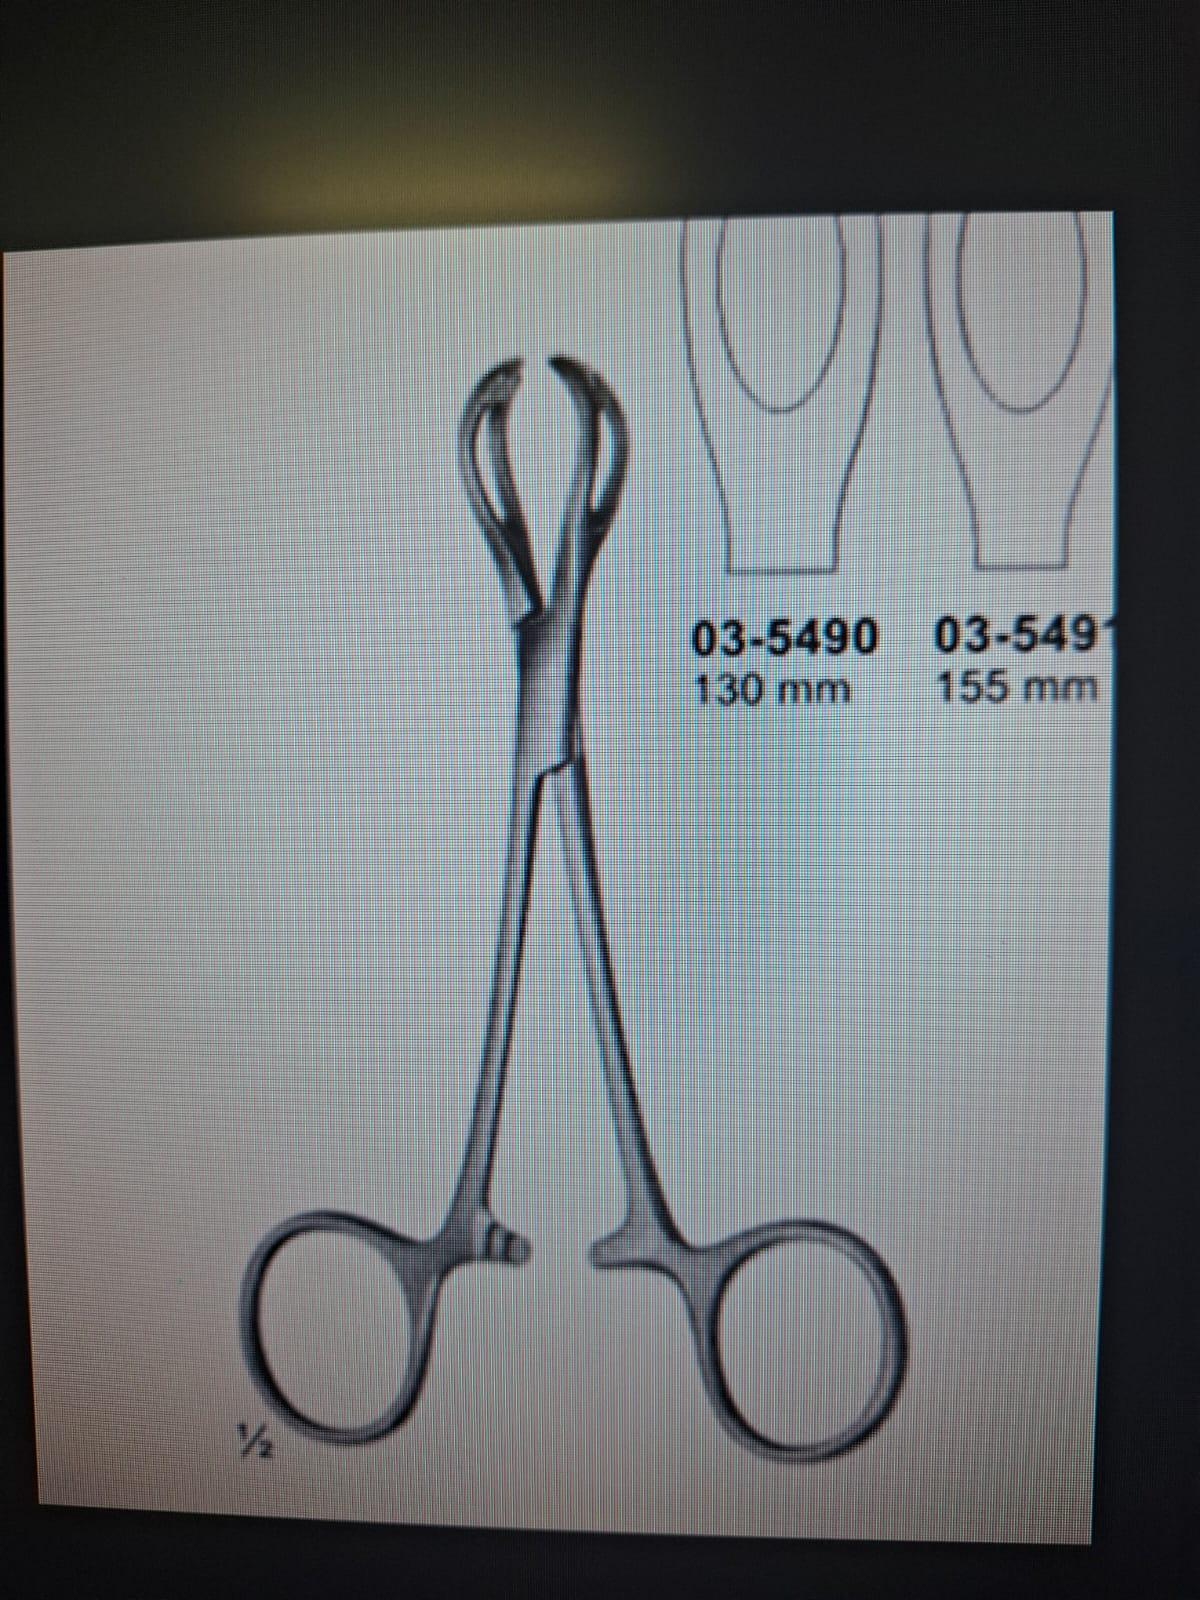Lane Tissue Forceps: (232, 350, 905, 1458)
